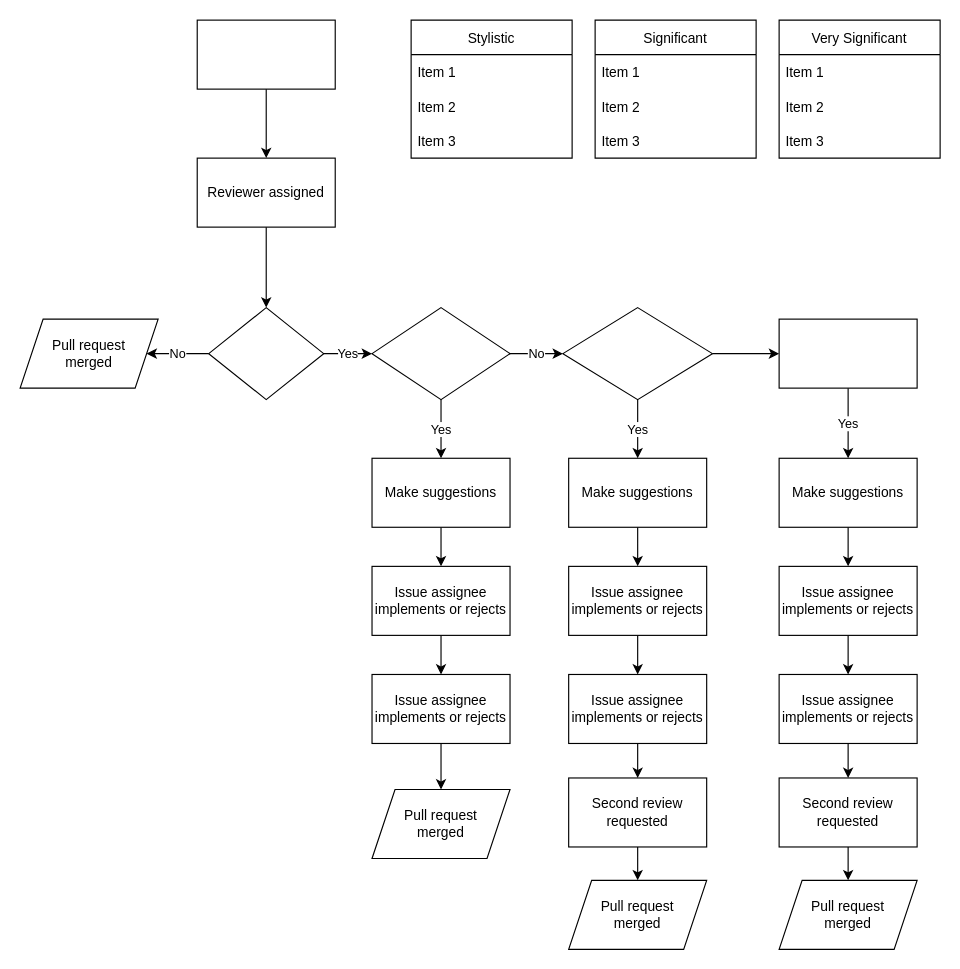
Some shapes in this 960 by 969 pixel diagram are drawn without their labels. Each missing label, with the box of its shape:
Are changes significant?: (562, 306, 712, 400)
Are changes Stylistic?: (371, 306, 510, 400)
Changes are very significant: (778, 318, 917, 388)
Changes requested?: (208, 306, 324, 400)
Pull request initiated: (196, 19, 335, 89)
